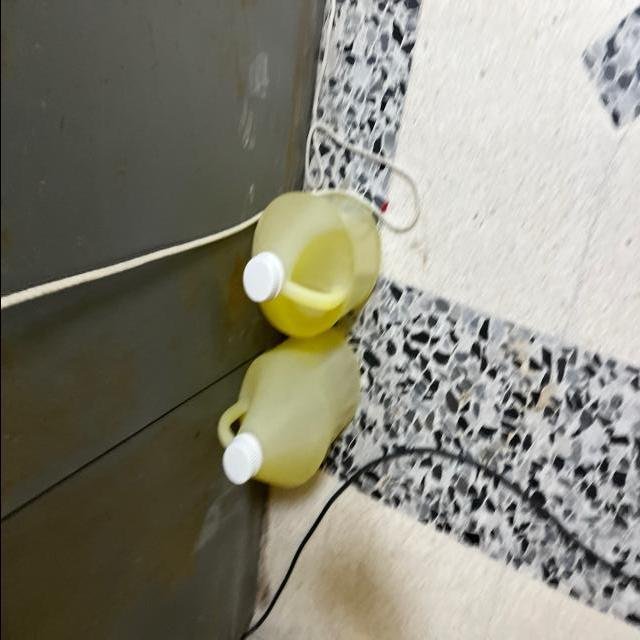HDPE Plastic: (234, 188, 386, 340), (215, 336, 363, 487)
